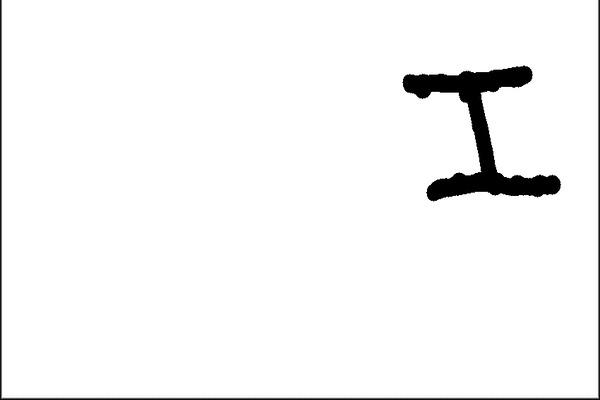i: (393, 58, 567, 210)
